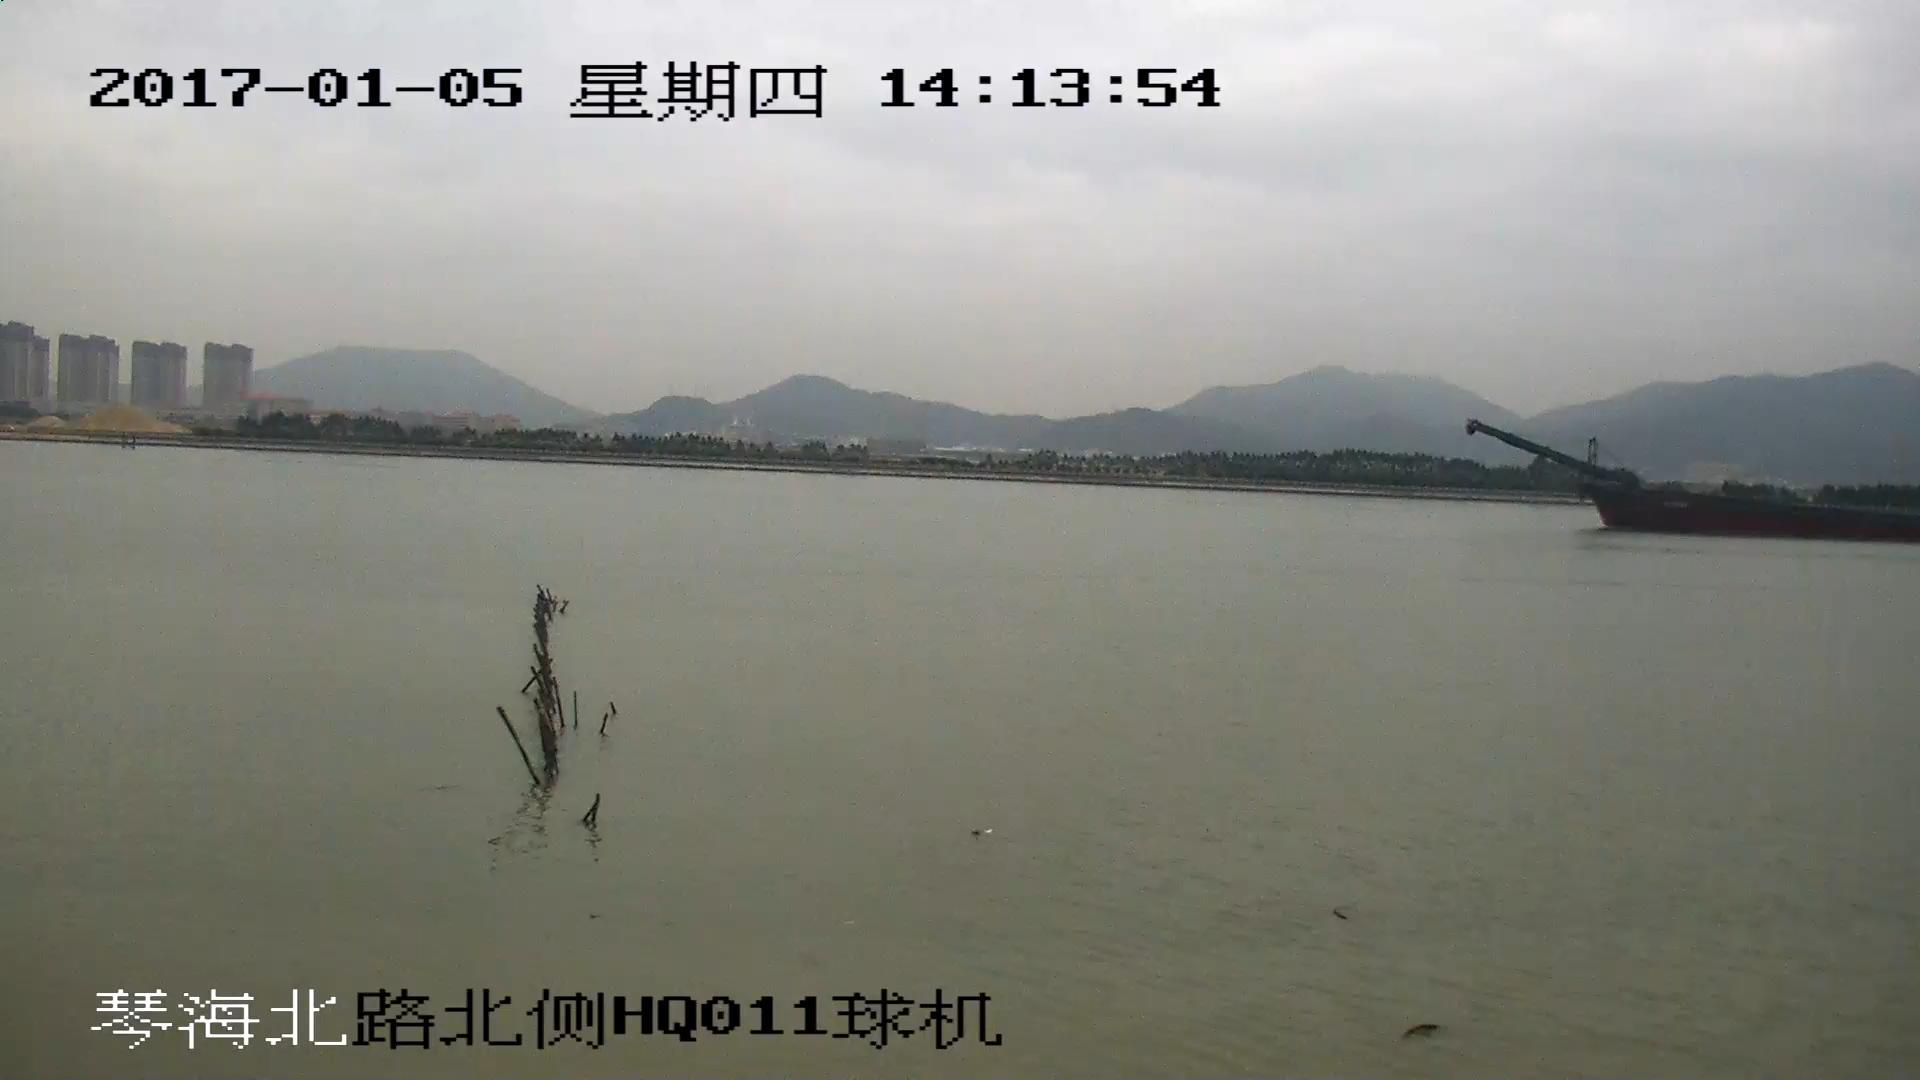Ship: (1466, 421, 1920, 545)
